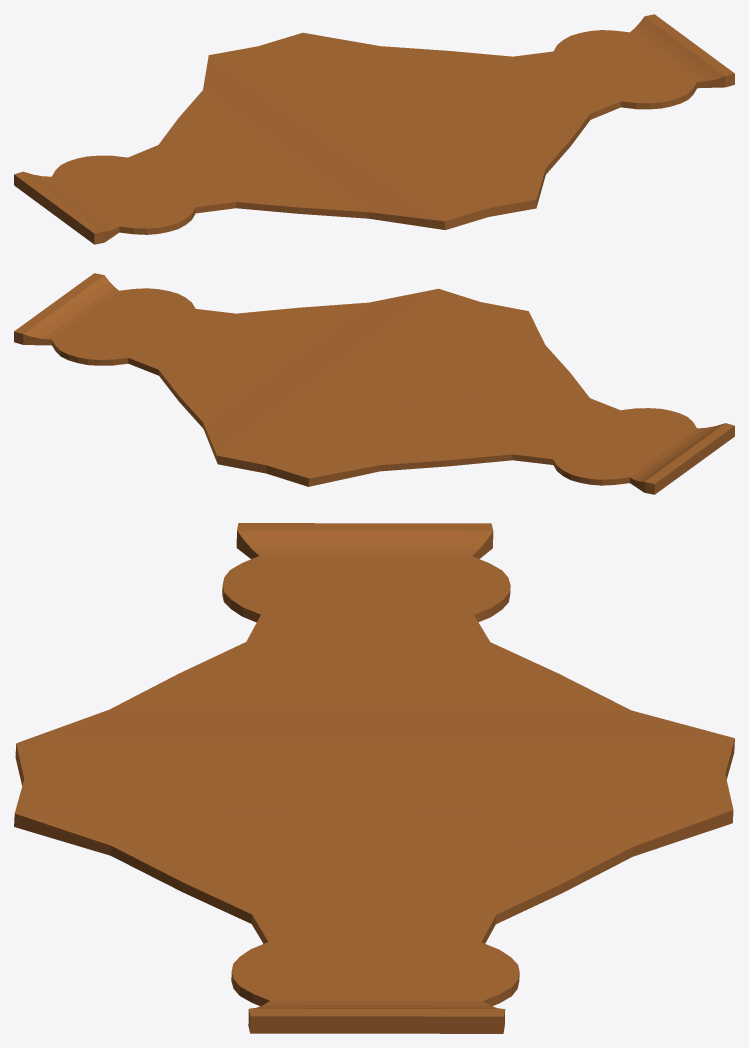
Rendered from terreno.fbx.
3 renders of one model, top to bottom at view 1: azimuth 30°, elevation 25°; view 2: azimuth 150°, elevation 25°; view 3: azimuth 270°, elevation 25°, orthographic. The views are drawn at different scales.
Parts seen in each view (by area): view 1: Plane; view 2: Plane; view 3: Plane.
Part boxes in pixels (box(x1,y1,x2,y2)): Plane: box(14, 14, 734, 244); Plane: box(14, 273, 734, 494); Plane: box(14, 523, 734, 1033).
Size of the model in its own units: 39427 by 756 by 24341.
